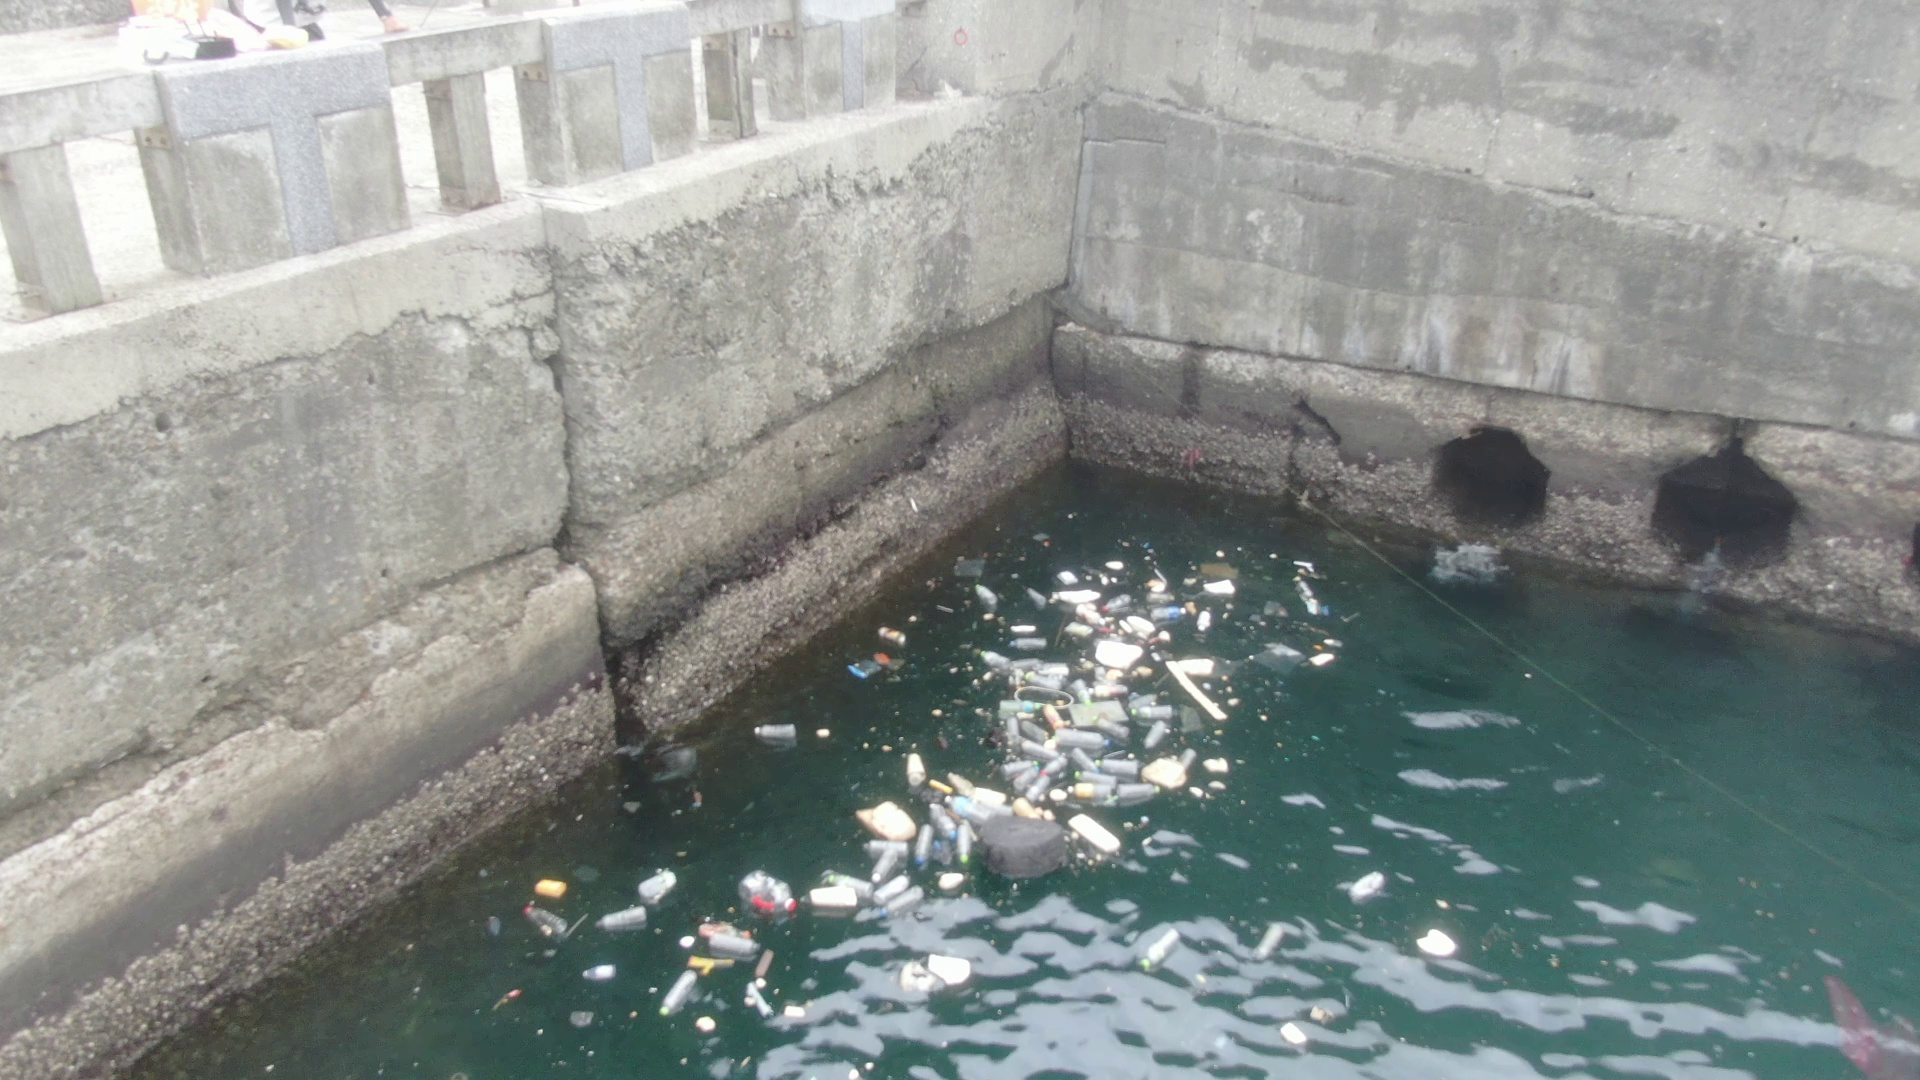bottle: (657, 963, 702, 1021), (521, 897, 574, 938), (593, 906, 653, 934), (748, 720, 803, 745)
garbage: (836, 535, 1373, 913), (464, 843, 1025, 1080), (1124, 887, 1487, 1060)
